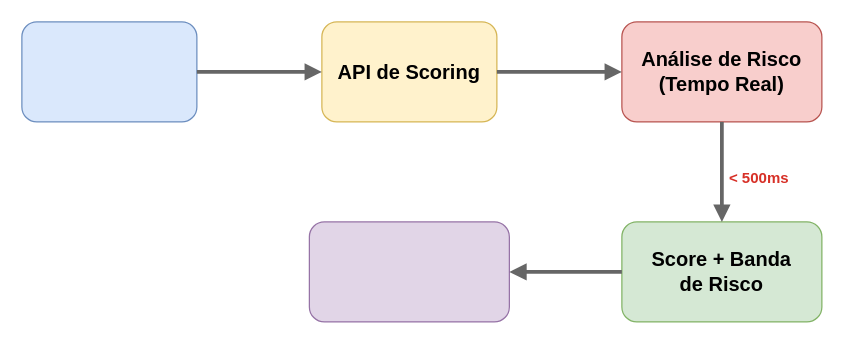
The diagram is 844 pixels wide and 344 high, and some of its shapes have lost their labels. Here are the shapes that lost their labels. From the top down, the centre of each, then its label:
At (109,71): "Transação 3DS".
At (408,271): "Histórico + Analytics".
